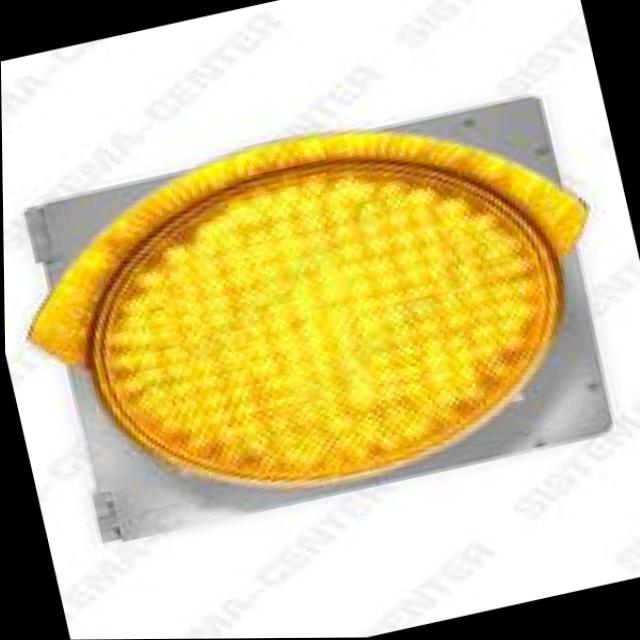yellow_light: (21, 70, 627, 572)
